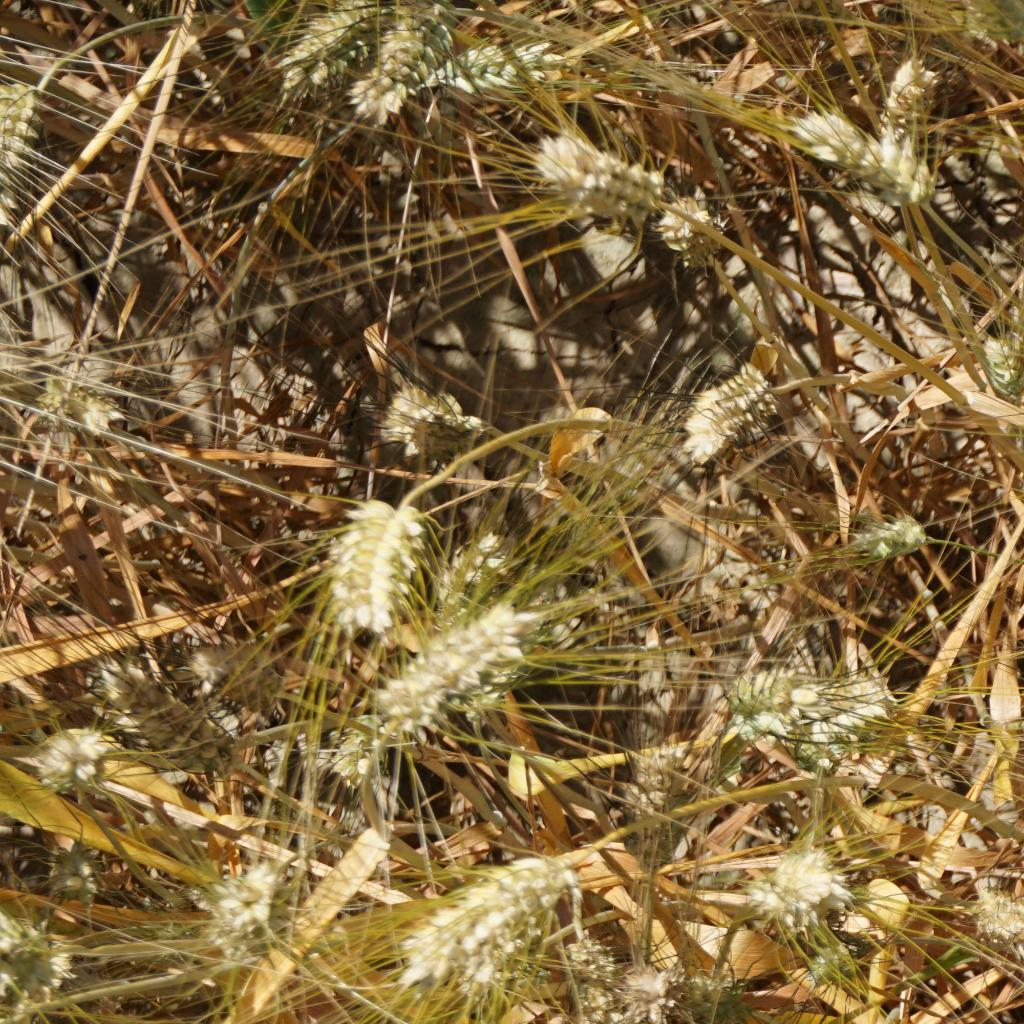0-0: (380, 840, 592, 996), (363, 608, 519, 736), (792, 102, 947, 229), (75, 650, 222, 763), (323, 483, 432, 626), (674, 357, 795, 468), (417, 522, 532, 633), (446, 909, 562, 1012), (606, 727, 697, 852), (366, 374, 487, 466), (370, 0, 438, 142), (537, 135, 653, 217), (436, 38, 585, 97), (33, 370, 138, 448), (179, 635, 294, 706), (733, 854, 834, 933), (204, 865, 286, 959), (0, 910, 87, 998), (873, 49, 951, 144), (290, 0, 371, 81), (17, 716, 102, 793), (40, 838, 128, 912), (722, 657, 788, 750), (330, 707, 399, 793), (829, 512, 924, 574), (794, 930, 877, 999), (793, 680, 888, 739), (929, 0, 1024, 54), (649, 198, 719, 268), (563, 942, 617, 1024), (974, 326, 1024, 408), (676, 962, 745, 1020), (966, 885, 1024, 951), (620, 962, 671, 1024)
